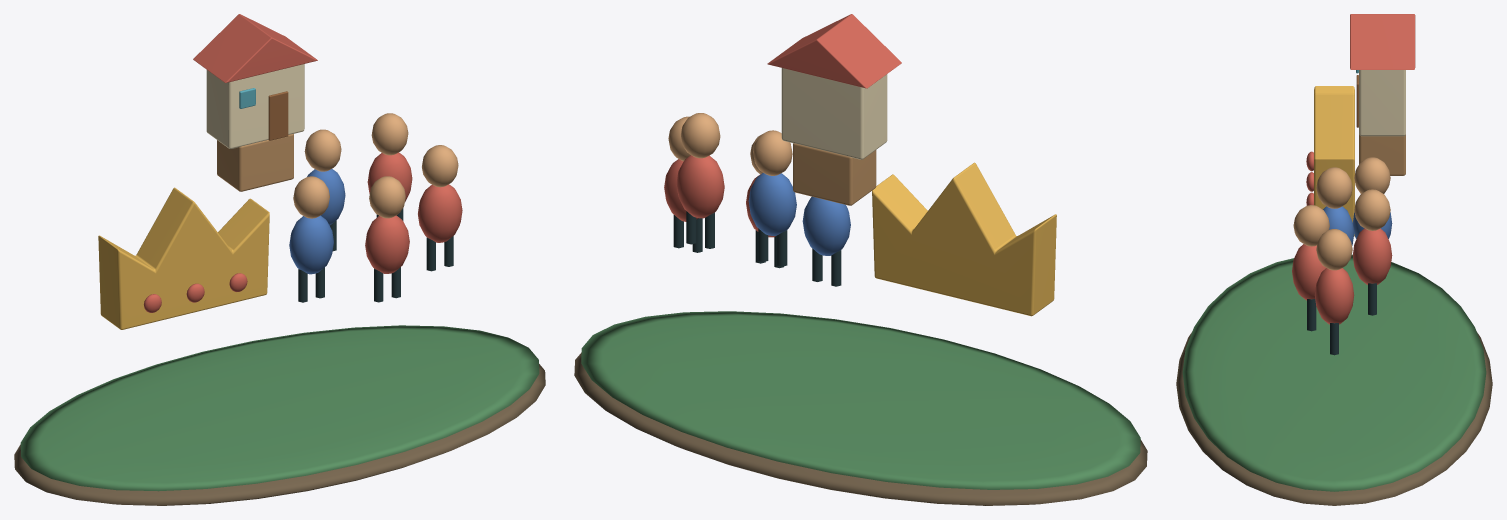
Rendered from complete-third-head-of-all-city.glb.
The picture shows the model from 3 angles, left to right: view 1: azimuth 30°, elevation 25°; view 2: azimuth 150°, elevation 25°; view 3: azimuth 270°, elevation 25°; orthographic projection. The views are drawn at different scales.
Visible parts, largest first — view 1: complete-third-head-of-all-city_surface_01, complete-third-head-of-all-city_surface_02, complete-third-head-of-all-city_surface_03, complete-third-head-of-all-city_surface_00, complete-third-head-of-all-city_surface_04, complete-third-head-of-all-city_surface_07, complete-third-head-of-all-city_surface_10, complete-third-head-of-all-city_surface_05, complete-third-head-of-all-city_surface_06, complete-third-head-of-all-city_surface_08; view 2: complete-third-head-of-all-city_surface_01, complete-third-head-of-all-city_surface_02, complete-third-head-of-all-city_surface_00, complete-third-head-of-all-city_surface_03, complete-third-head-of-all-city_surface_07, complete-third-head-of-all-city_surface_05, complete-third-head-of-all-city_surface_10, complete-third-head-of-all-city_surface_04, complete-third-head-of-all-city_surface_06; view 3: complete-third-head-of-all-city_surface_01, complete-third-head-of-all-city_surface_03, complete-third-head-of-all-city_surface_00, complete-third-head-of-all-city_surface_04, complete-third-head-of-all-city_surface_02, complete-third-head-of-all-city_surface_07, complete-third-head-of-all-city_surface_10, complete-third-head-of-all-city_surface_05, complete-third-head-of-all-city_surface_06.
Boxes of the visible parts, x1,y1,x2,y2 form: complete-third-head-of-all-city_surface_01: (20, 325, 539, 491); complete-third-head-of-all-city_surface_02: (98, 187, 269, 329); complete-third-head-of-all-city_surface_03: (143, 14, 462, 312); complete-third-head-of-all-city_surface_00: (14, 364, 545, 505); complete-third-head-of-all-city_surface_04: (293, 113, 458, 218); complete-third-head-of-all-city_surface_07: (206, 64, 304, 148); complete-third-head-of-all-city_surface_10: (217, 134, 293, 191); complete-third-head-of-all-city_surface_05: (289, 169, 345, 274); complete-third-head-of-all-city_surface_06: (298, 208, 453, 302); complete-third-head-of-all-city_surface_08: (268, 91, 288, 140); complete-third-head-of-all-city_surface_01: (581, 311, 1140, 489); complete-third-head-of-all-city_surface_02: (872, 162, 1056, 316); complete-third-head-of-all-city_surface_00: (574, 352, 1147, 505); complete-third-head-of-all-city_surface_03: (664, 14, 901, 237); complete-third-head-of-all-city_surface_07: (781, 68, 887, 159); complete-third-head-of-all-city_surface_05: (748, 173, 850, 255); complete-third-head-of-all-city_surface_10: (793, 143, 876, 205); complete-third-head-of-all-city_surface_04: (668, 113, 792, 175); complete-third-head-of-all-city_surface_06: (673, 211, 841, 286); complete-third-head-of-all-city_surface_01: (1182, 254, 1486, 491); complete-third-head-of-all-city_surface_03: (1292, 14, 1415, 324); complete-third-head-of-all-city_surface_00: (1176, 332, 1492, 505); complete-third-head-of-all-city_surface_04: (1293, 157, 1390, 270); complete-third-head-of-all-city_surface_02: (1314, 86, 1354, 236); complete-third-head-of-all-city_surface_07: (1359, 70, 1405, 136); complete-third-head-of-all-city_surface_10: (1359, 134, 1405, 175); complete-third-head-of-all-city_surface_05: (1323, 206, 1392, 245); complete-third-head-of-all-city_surface_06: (1307, 283, 1376, 355).
Size of the model in its own units: 4.56 by 3.35 by 2.5.
